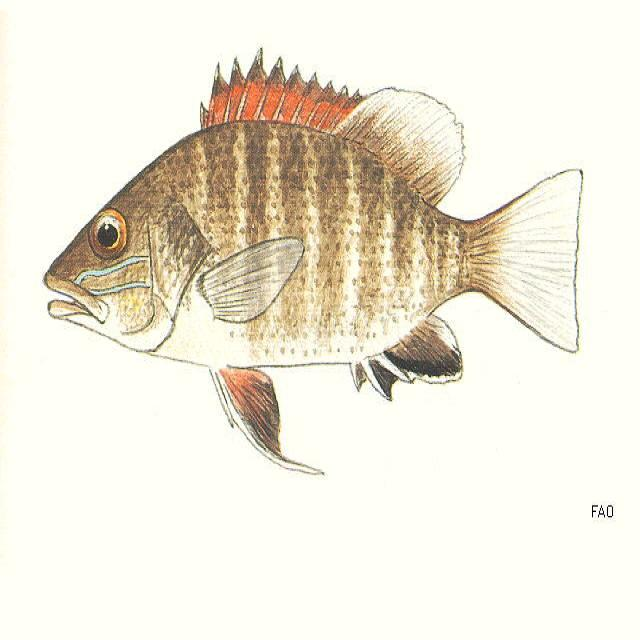ikan: (42, 45, 583, 476)
